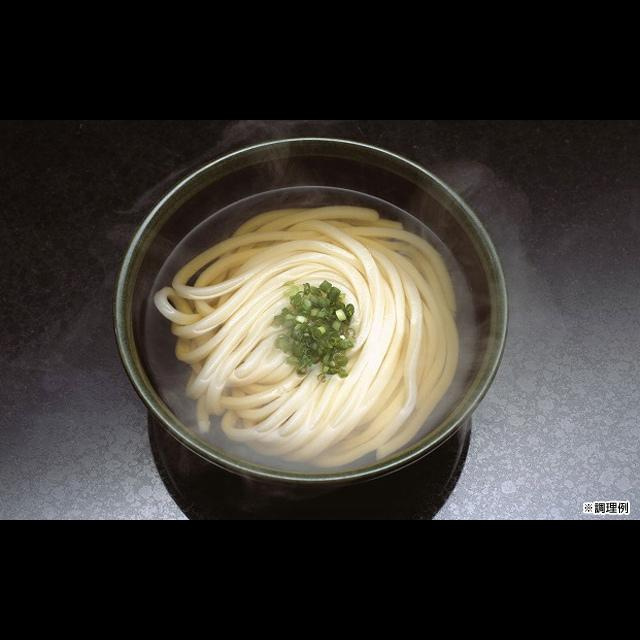noodles: (157, 204, 460, 468)
